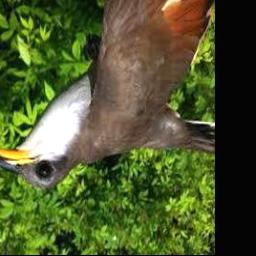Cuckoo: (0, 0, 215, 189)
